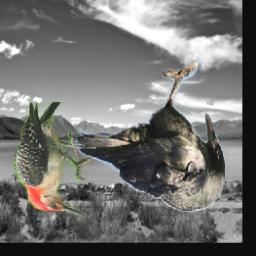Crow: (75, 57, 225, 213)
Woodpecker: (15, 103, 95, 216)
